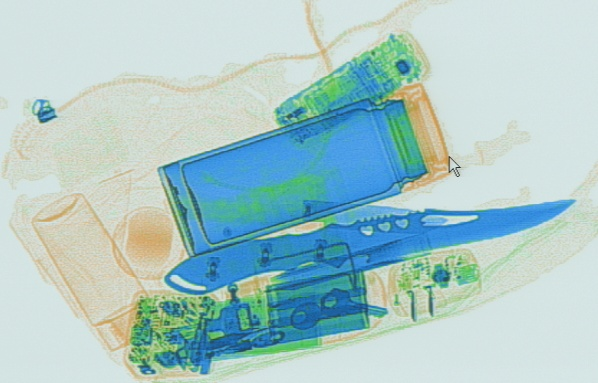knife: (164, 196, 577, 295), (171, 190, 449, 231)
powerbank: (223, 252, 383, 350)
